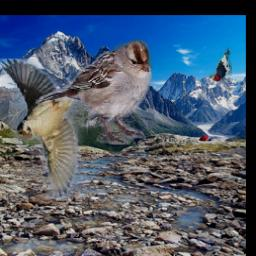Sparrow: (0, 59, 91, 198), (35, 41, 155, 145)
Woodpecker: (209, 47, 232, 81)
